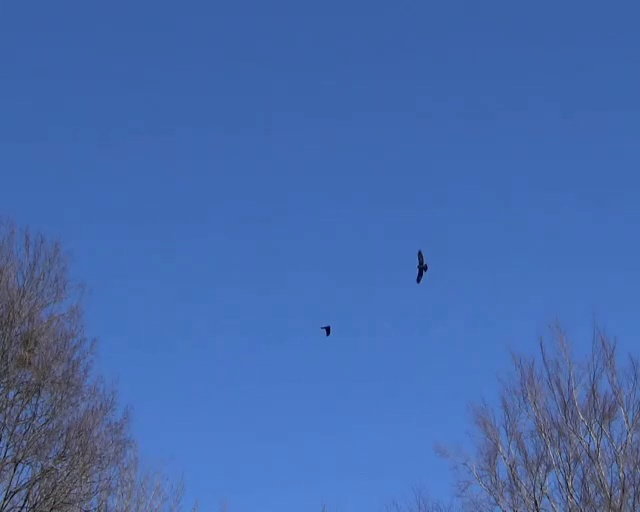BIRD: (415, 250, 428, 283)
